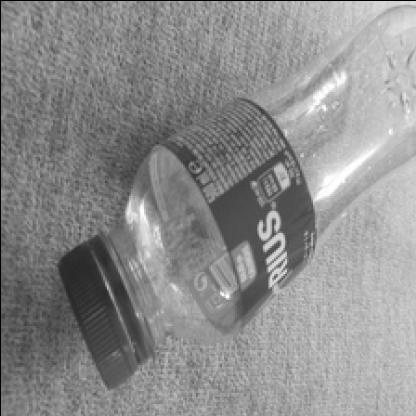plastic_bottles: (44, 11, 416, 392)
